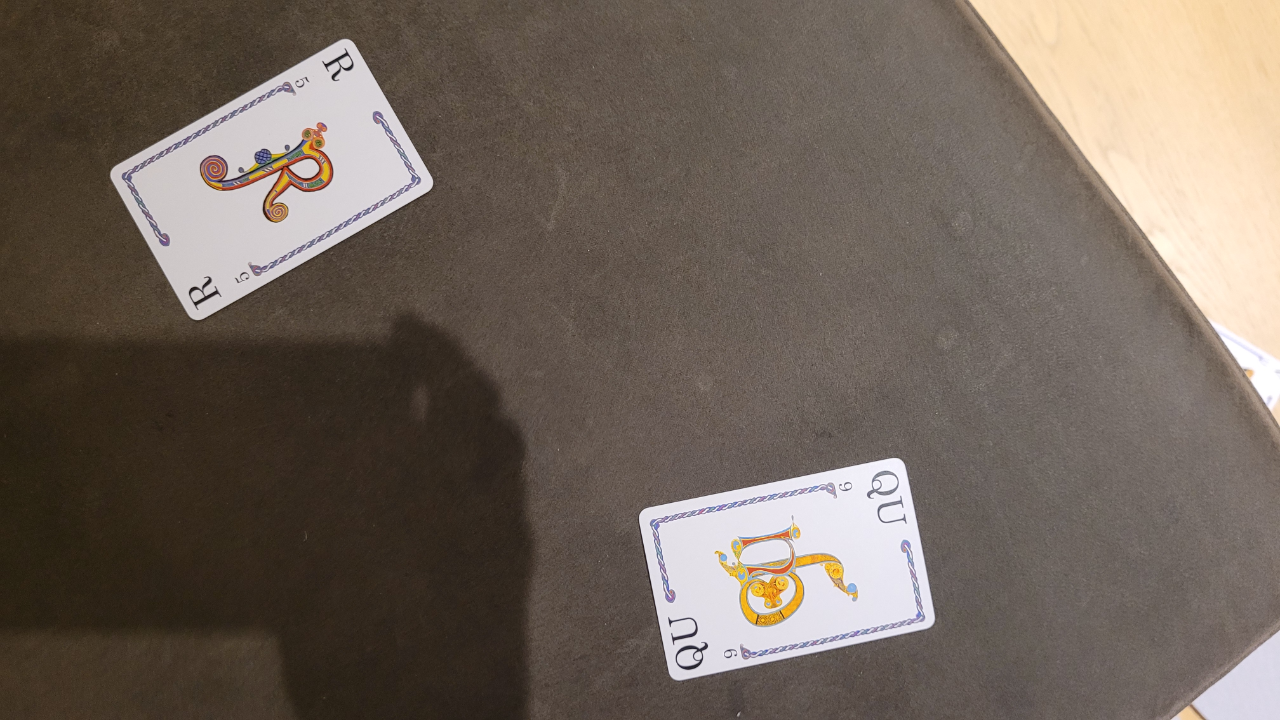quiddler_card: (98, 31, 451, 331), (635, 450, 946, 693)
